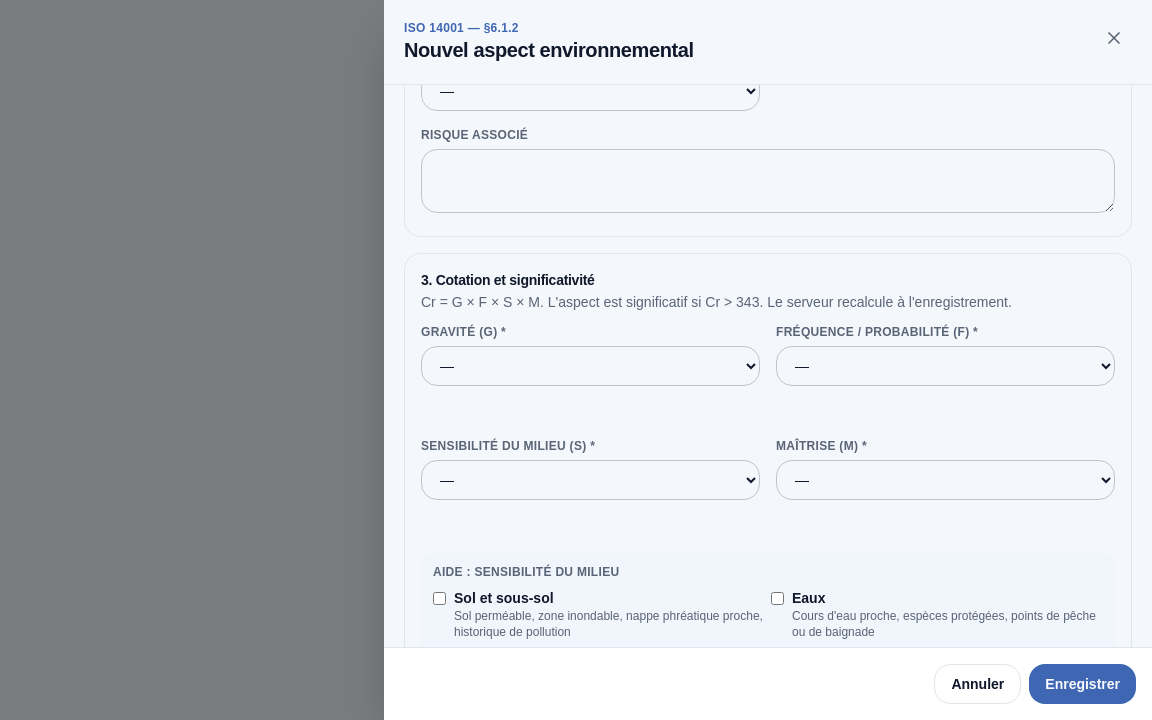
it: formulaire d'aspect › calcule la significativité en direct à partir de G, F, S et M
The width and height of the screenshot is (1152, 720).
(page scrolled)
Select "5 — Majeur" in the dropdown named "Gravité" at coordinates (590, 366), box x1=421 y1=346 x2=760 y2=386
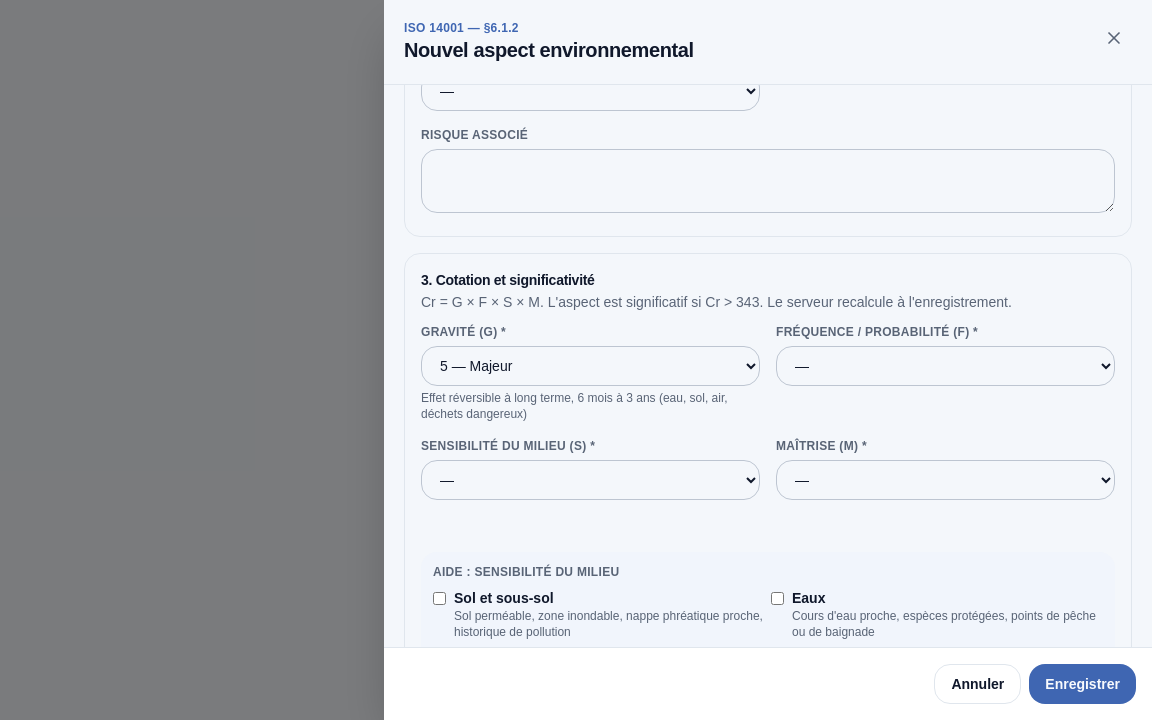
Select "7 — Fréquent" in the dropdown named "Fréquence / probabilité" at coordinates (946, 366), box x1=776 y1=346 x2=1115 y2=386
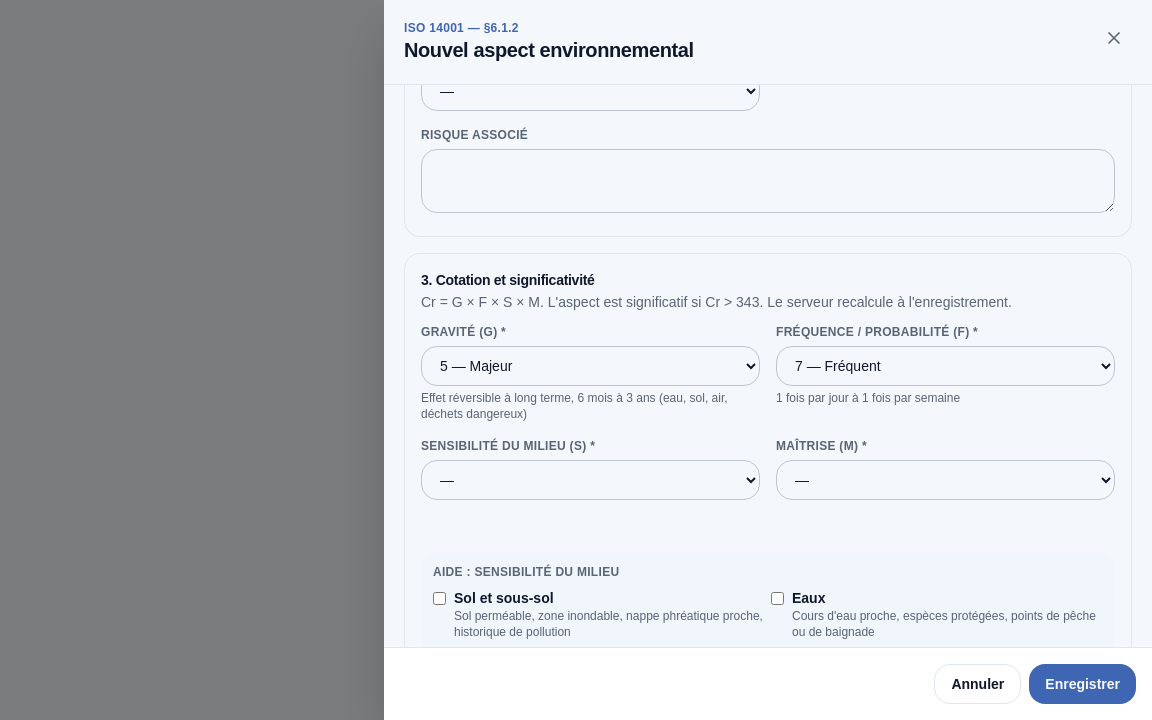
Select "3 — Sensibilité moyenne" in the dropdown named "Sensibilité du milieu" at coordinates (590, 480), box x1=421 y1=460 x2=760 y2=500
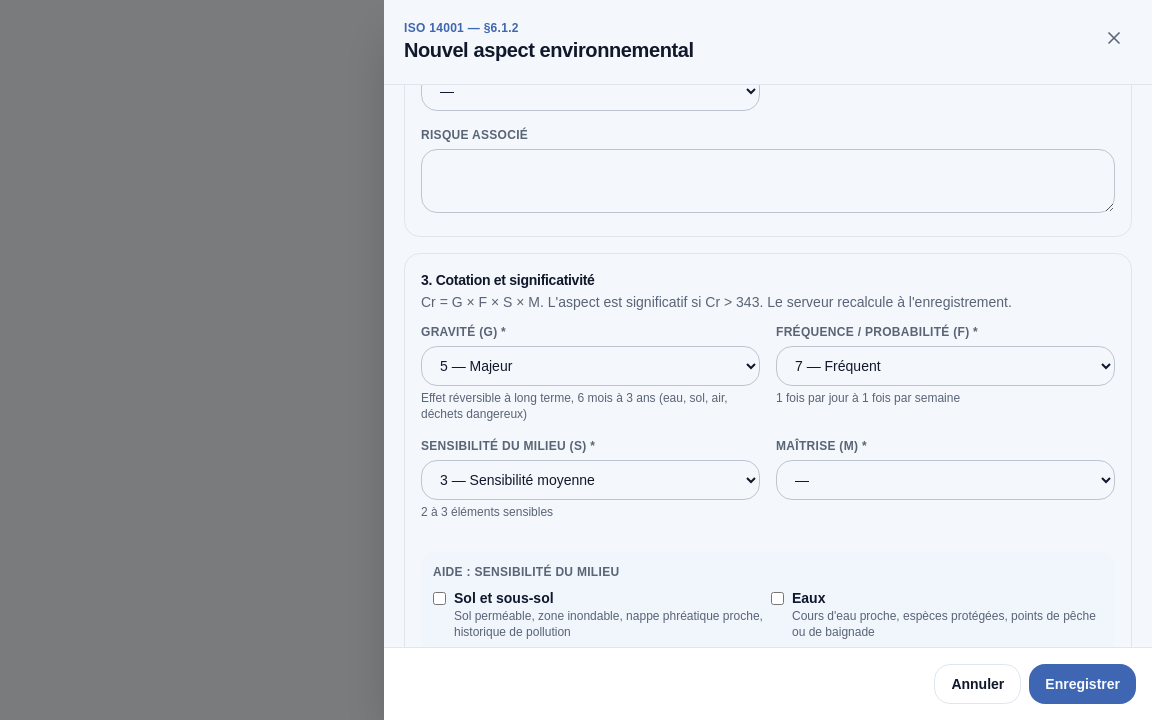
Select "5 — Maîtrise faible" in the dropdown named "Maîtrise" at coordinates (946, 480), box x1=776 y1=460 x2=1115 y2=500
(page scrolled)
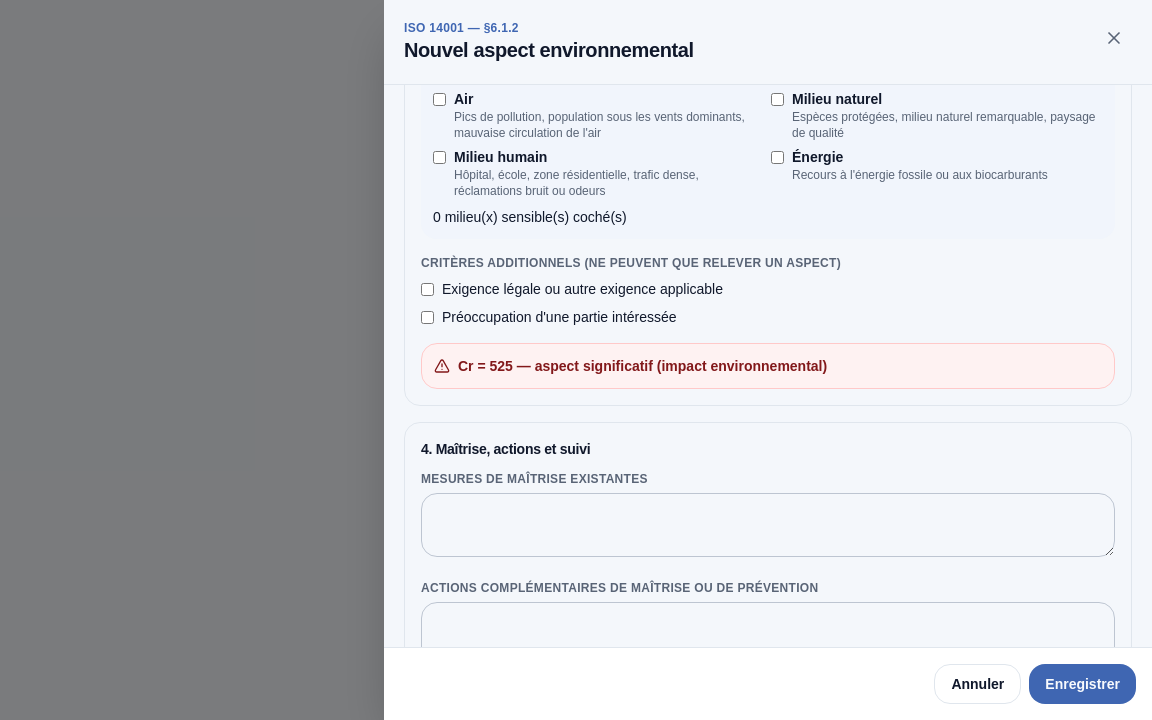
Result: the text "Cr = 525 — aspect significatif (impact environnemental)" is shown at x1=434 y1=358 x2=827 y2=374
